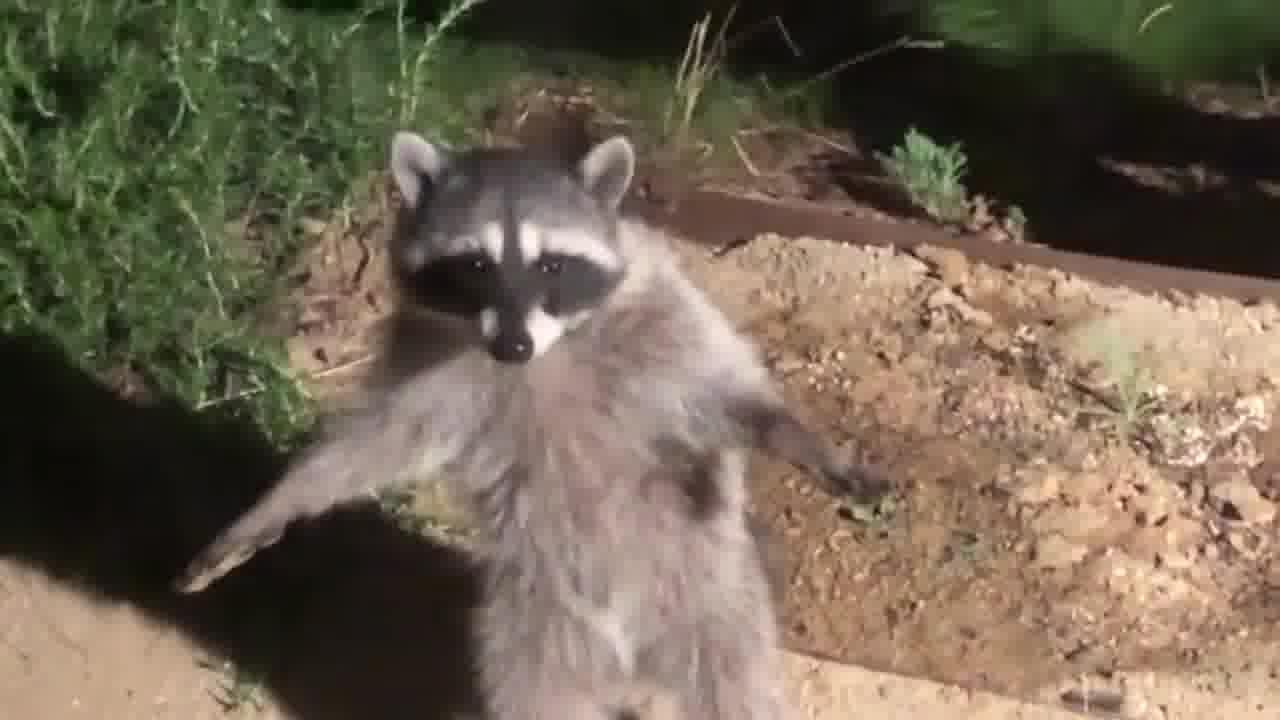raccoon: (184, 125, 896, 720)
